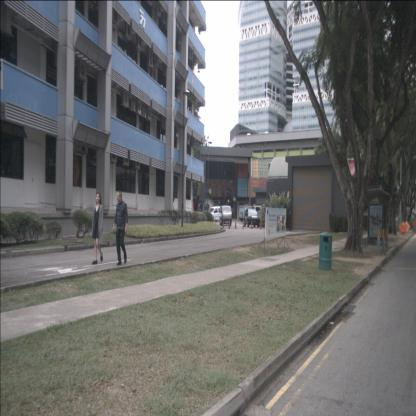human-pedestrian-adult: (112, 191, 128, 266), (92, 191, 103, 265), (257, 209, 261, 230)
movable_object-trafficcone: (250, 219, 254, 229), (234, 220, 238, 229), (242, 219, 245, 230), (228, 220, 231, 229)
vehicle-car: (243, 208, 260, 227), (206, 206, 226, 222), (219, 205, 232, 227)
vehicle-truck: (239, 205, 263, 222)
